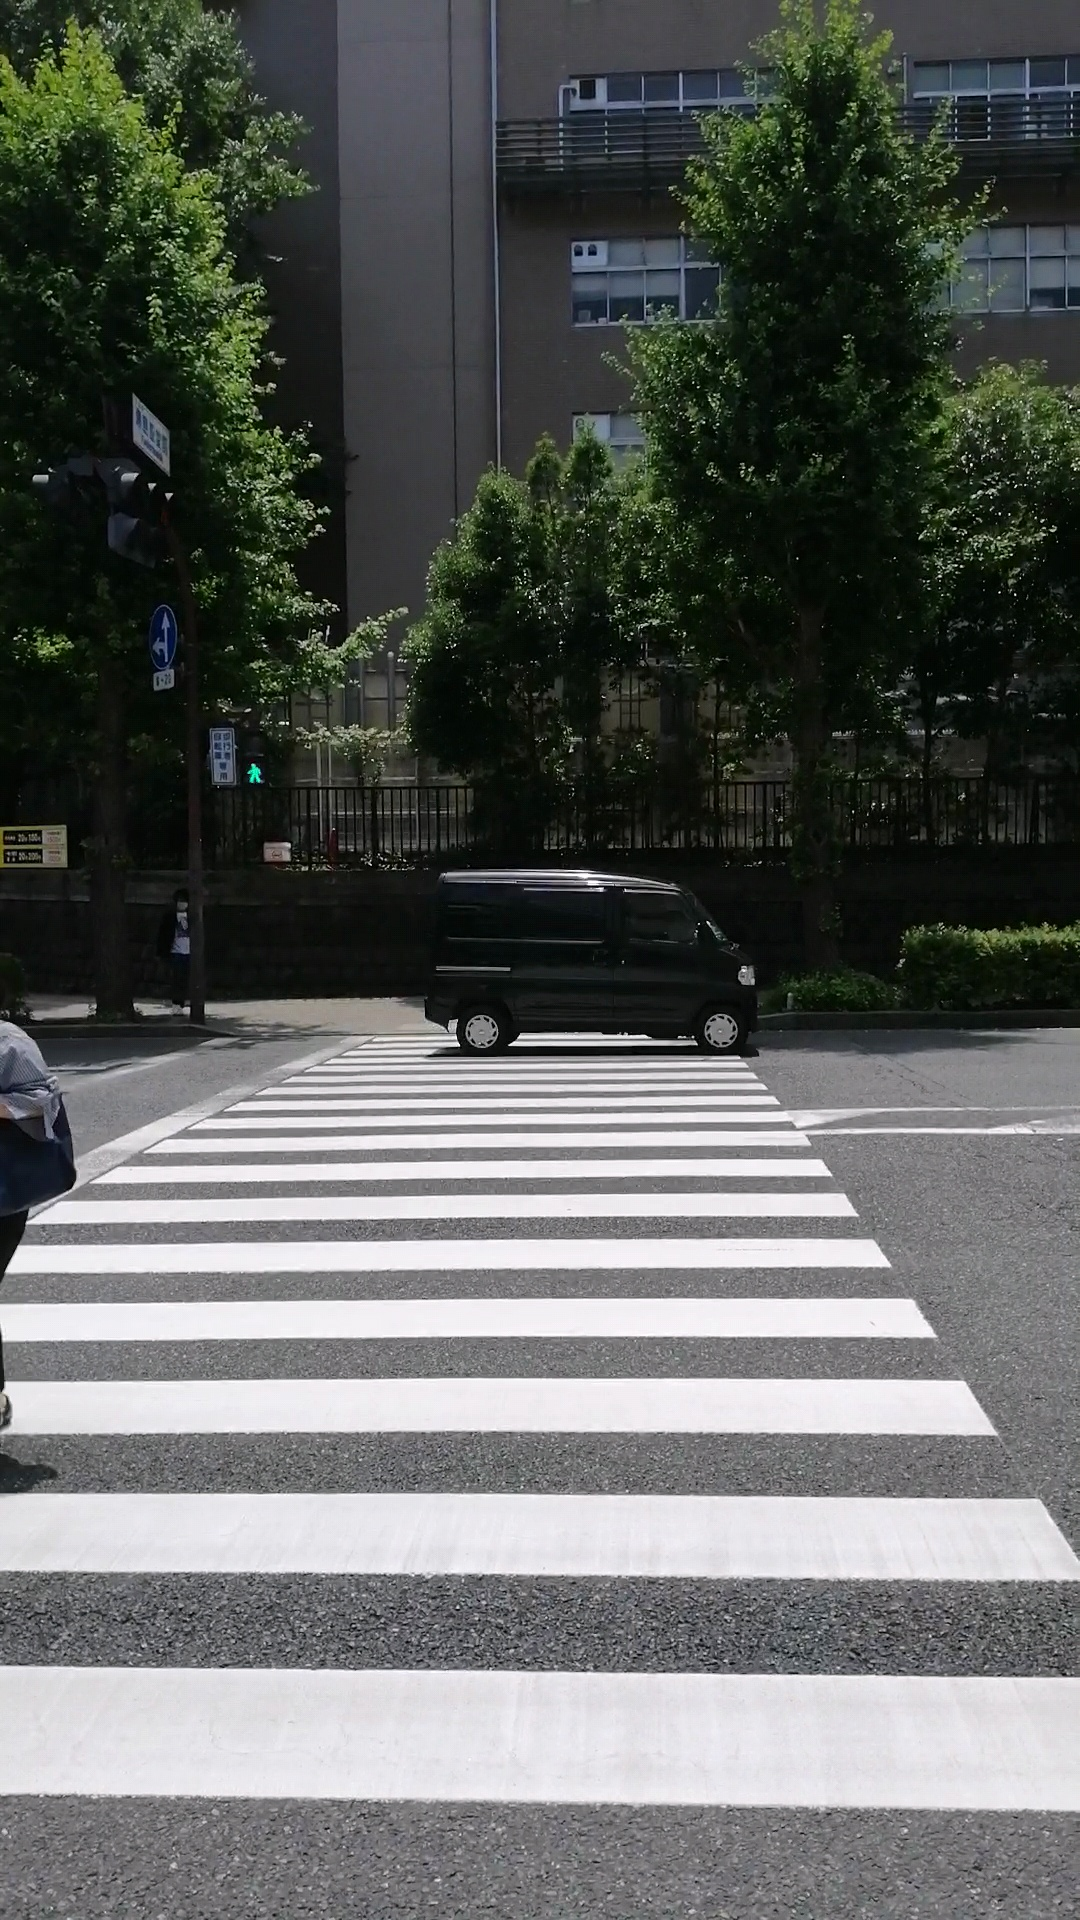green: (237, 732, 272, 791)
